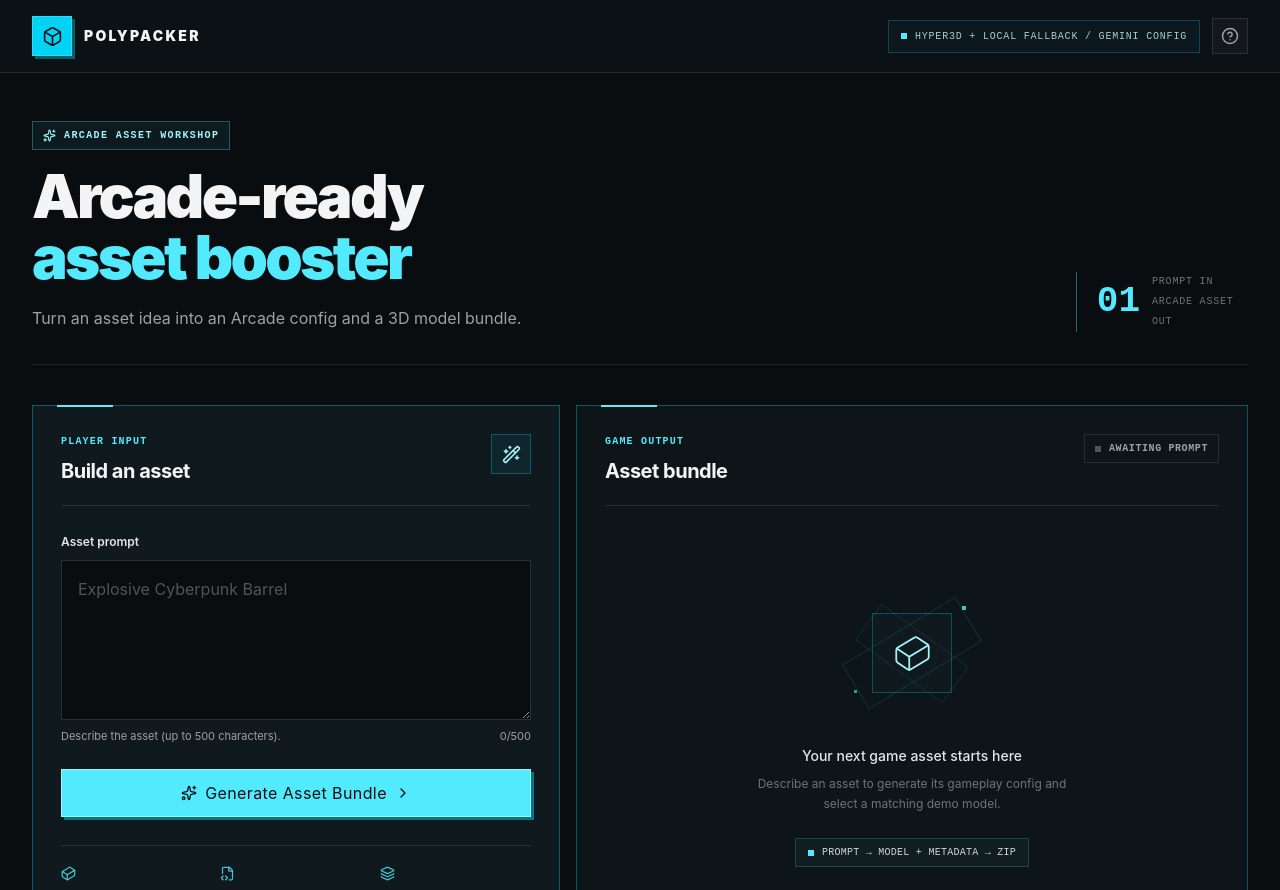
Arcade-Ready Asset Booster › keeps the prompt and blocks ZIP when Gemini config generation fails
Type "A moss-covered moon rover" into the text box labelled "Asset prompt".
click(296, 640); type("A moss-covered moon rover")  # box [61,560,531,720]
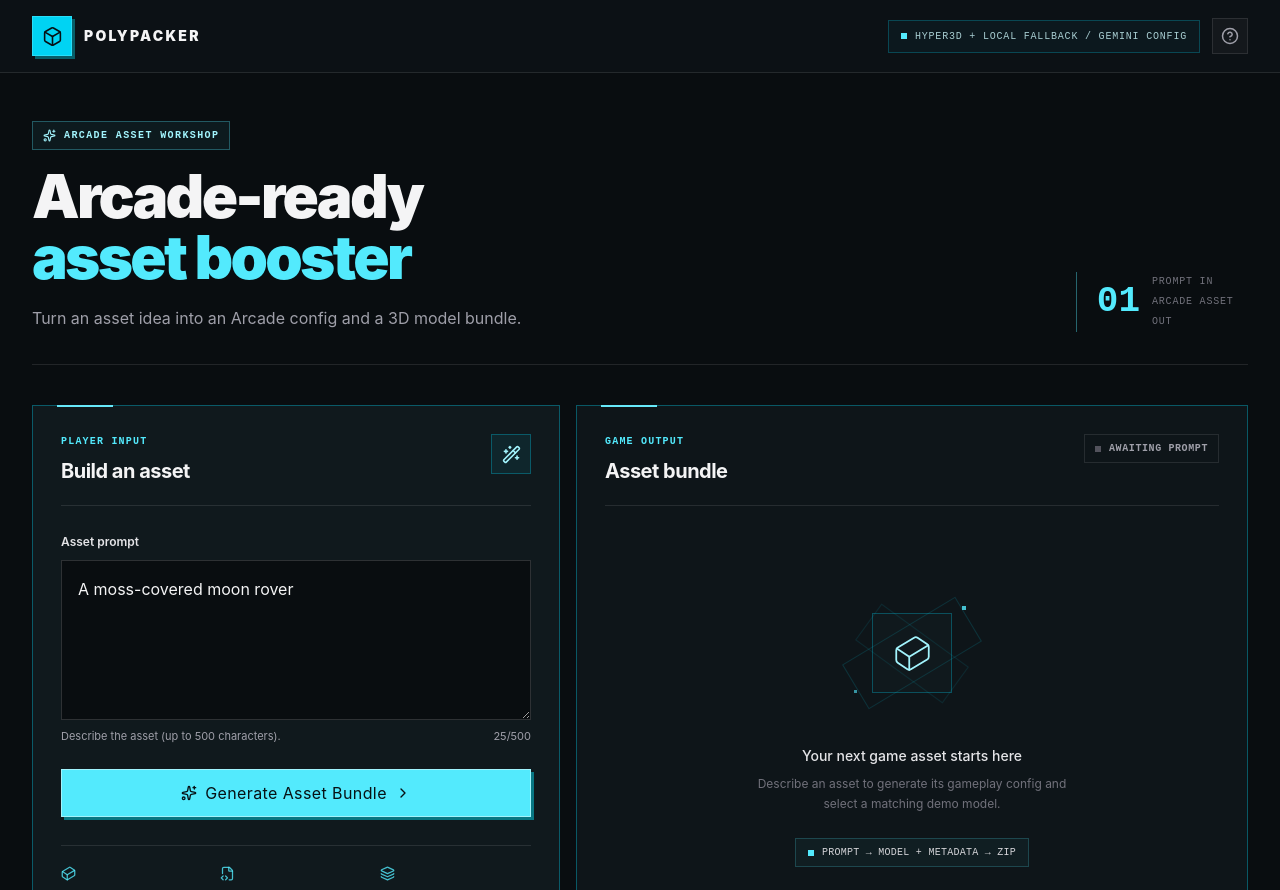
Click the button "Generate Asset Bundle".
click(296, 793)  # box [61,769,531,817]
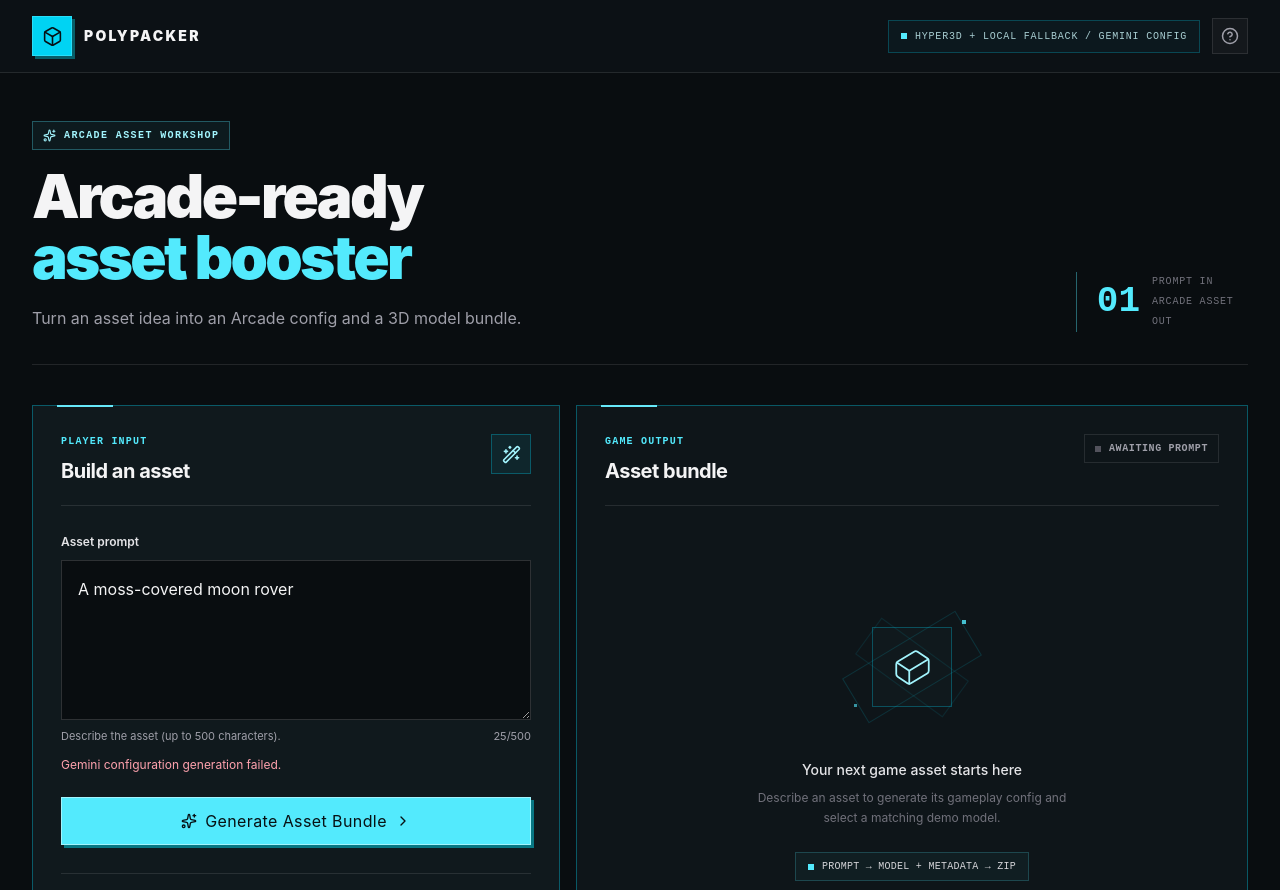
Expected: the text "Gemini configuration generation failed." is shown, [61,757,281,772]
